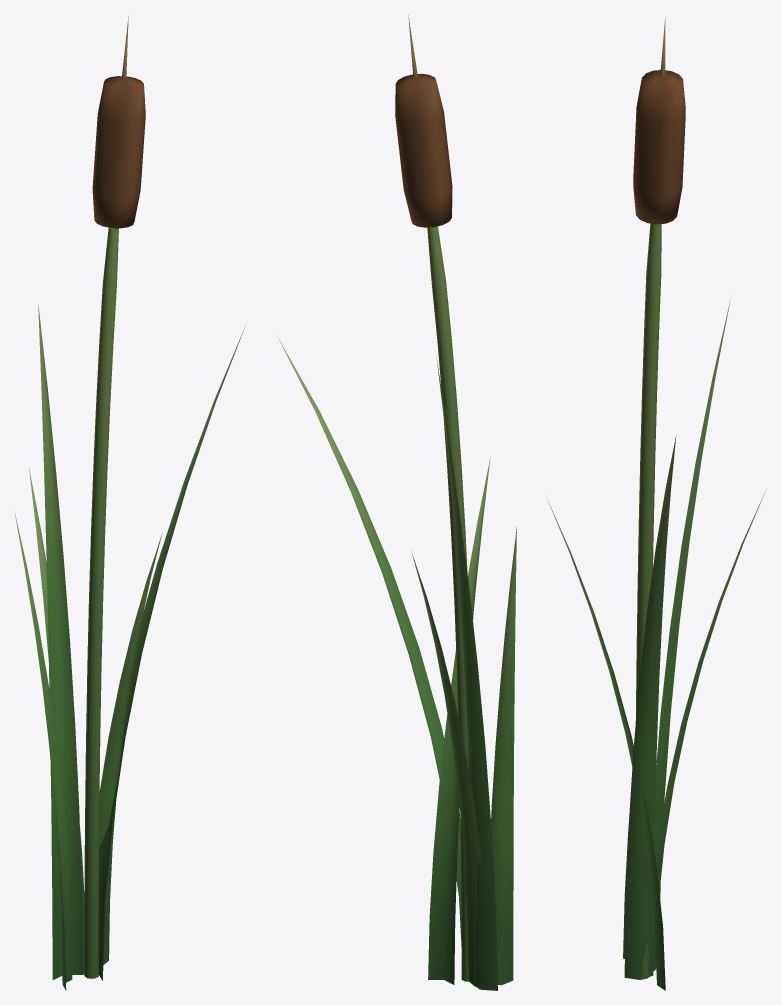
File: Reed.fbx
3 renders of one model, left to right at view 1: azimuth 30°, elevation 25°; view 2: azimuth 150°, elevation 25°; view 3: azimuth 270°, elevation 25°, orthographic. The views are drawn at different scales.
Visible parts, largest first — view 1: Reed; view 2: Reed; view 3: Reed.
Boxes of the visible parts, x1,y1,x2,y2 form: Reed: (14,16,245,990); Reed: (276,15,516,990); Reed: (547,18,765,990).
Size of the model in its own units: 4.04 by 15.49 by 3.17.
